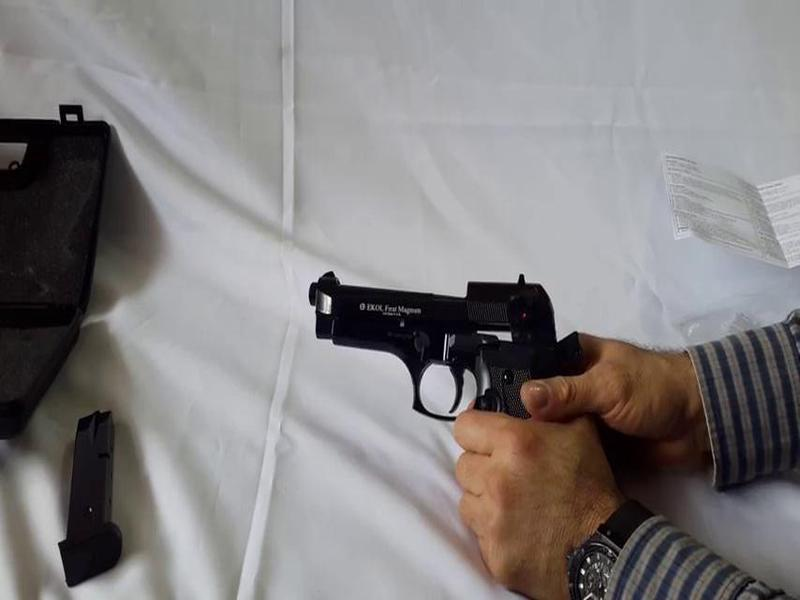Pistola: (293, 261, 596, 484)
